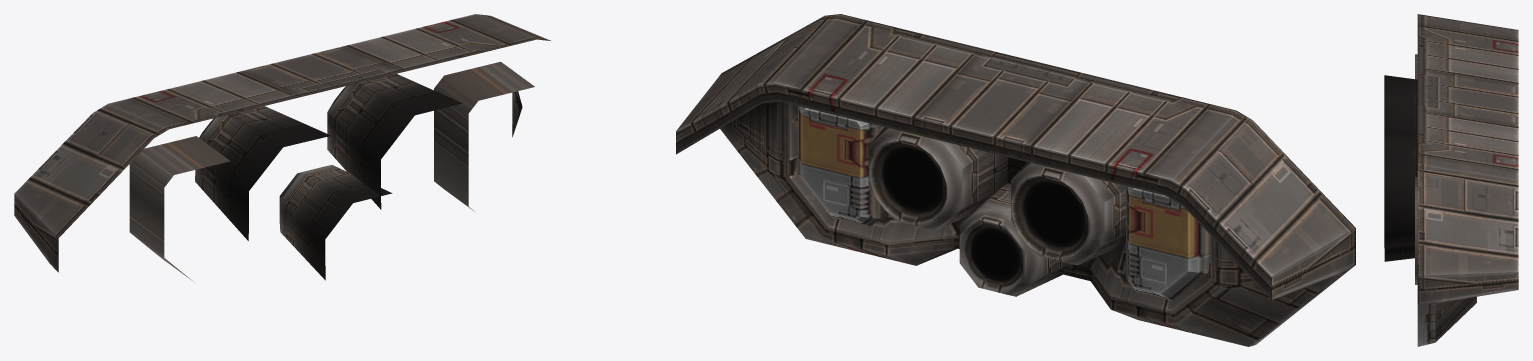
Rendered from engine_hgn_explorer_target_ion_01_t1.glb.
The picture shows the model from 3 angles, left to right: view 1: azimuth 30°, elevation 25°; view 2: azimuth 150°, elevation 25°; view 3: azimuth 270°, elevation 25°; orthographic projection. The views are drawn at different scales.
Visible parts, largest first — view 1: explorer_02_engine_s_LOD0; view 2: explorer_02_engine_s_LOD0; view 3: explorer_02_engine_s_LOD0.
Boxes of the visible parts, x1,y1,x2,y2 form: explorer_02_engine_s_LOD0: (14, 14, 550, 280); explorer_02_engine_s_LOD0: (676, 14, 1355, 346); explorer_02_engine_s_LOD0: (1384, 14, 1518, 346).
Size of the model in its own units: 2.51 by 0.8698 by 0.6006.
Materials: 1 (1 with a texture image).
